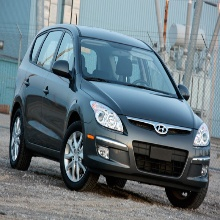no damage: (9, 23, 211, 210)
